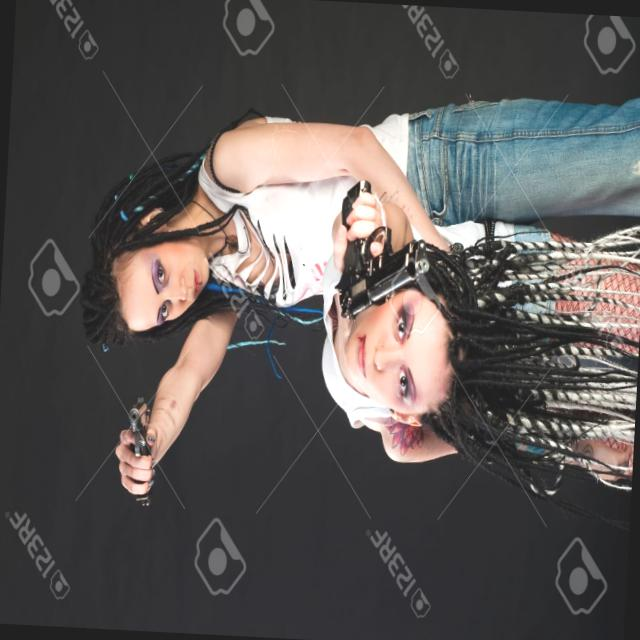handgun: (325, 184, 442, 320), (120, 383, 158, 493)
